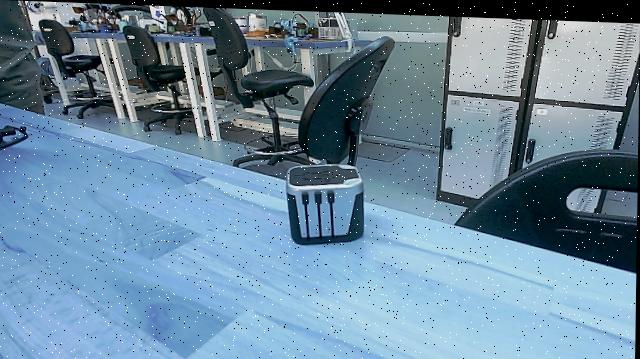adapter: (276, 158, 370, 247)
